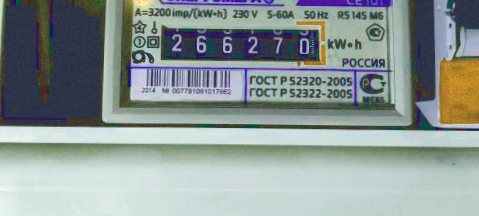0: (296, 35, 311, 55)
2: (169, 31, 183, 52), (246, 34, 260, 54)
6: (194, 33, 207, 54), (220, 34, 234, 53)
7: (272, 34, 283, 54)
screen: (148, 14, 332, 71)
